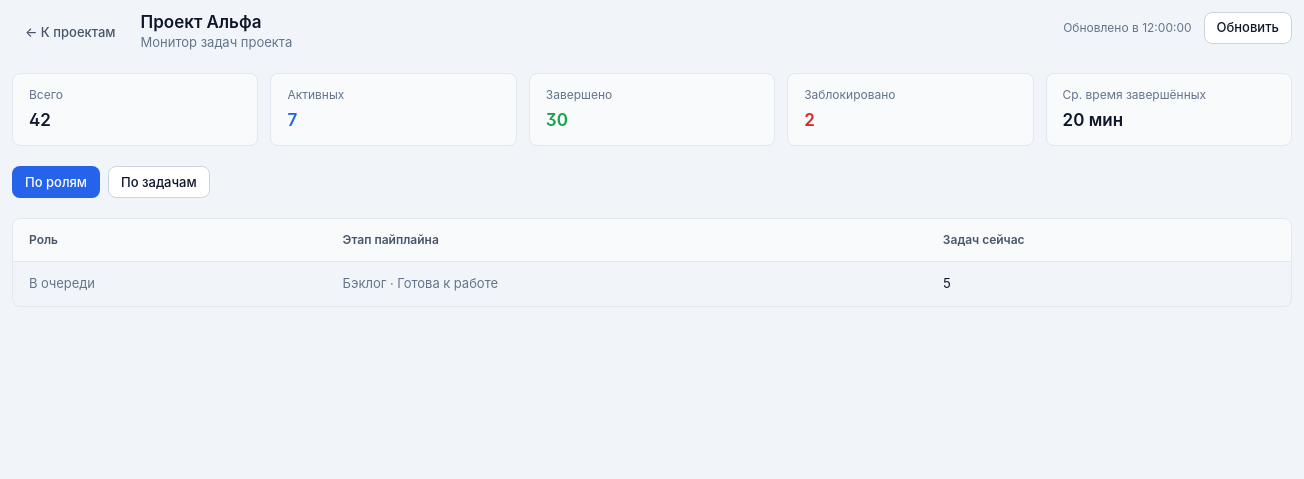
Test: ProjectMonitor — наблюдаемость (KPI, причина блока, форс-док) › во вкладке «По задачам» показывает KPI: стоимость и число прогонов (с упавшими)
Click the tab "По задачам": [159, 182] box [108,166,210,198]
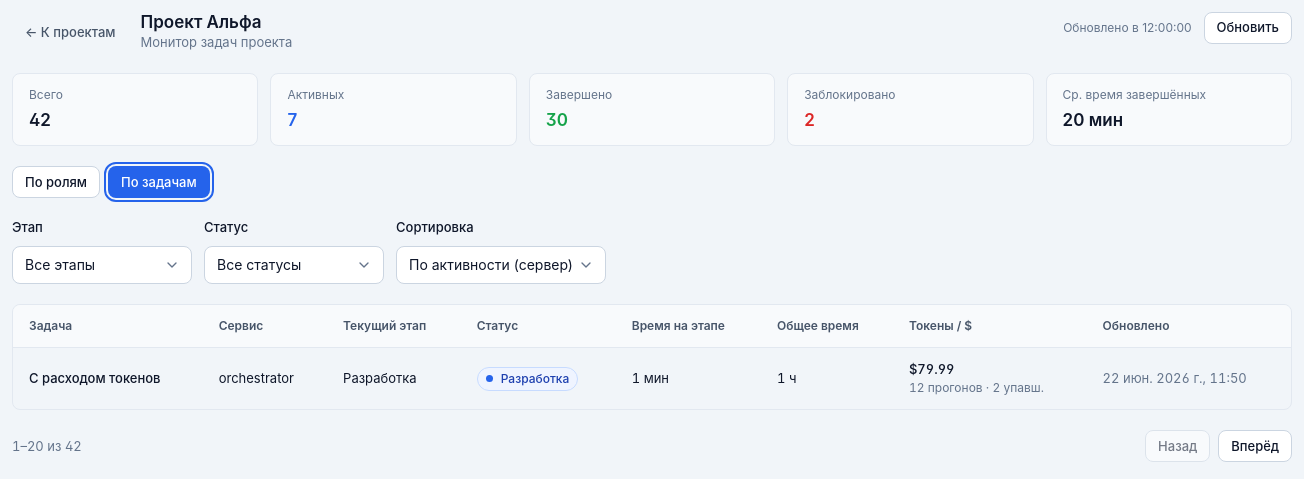
Expected: the text "$79.99" is shown, [909,361,955,377]
Expected: the text "12 прогонов · 2 упавш." is shown, [909,380,1044,395]
